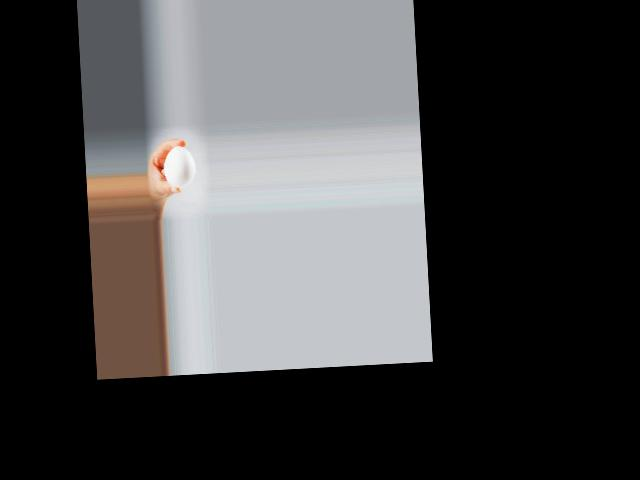egg: (162, 145, 196, 187)
